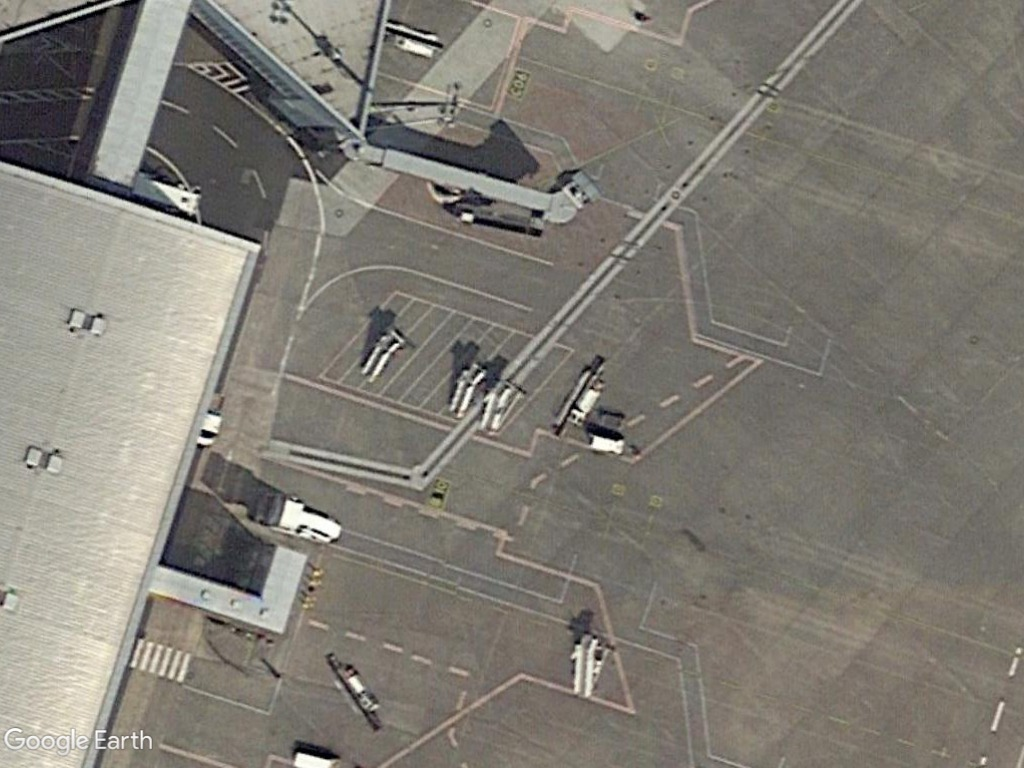stairtruck: (566, 628, 616, 701), (442, 358, 493, 425), (359, 327, 405, 387), (478, 377, 519, 435)
